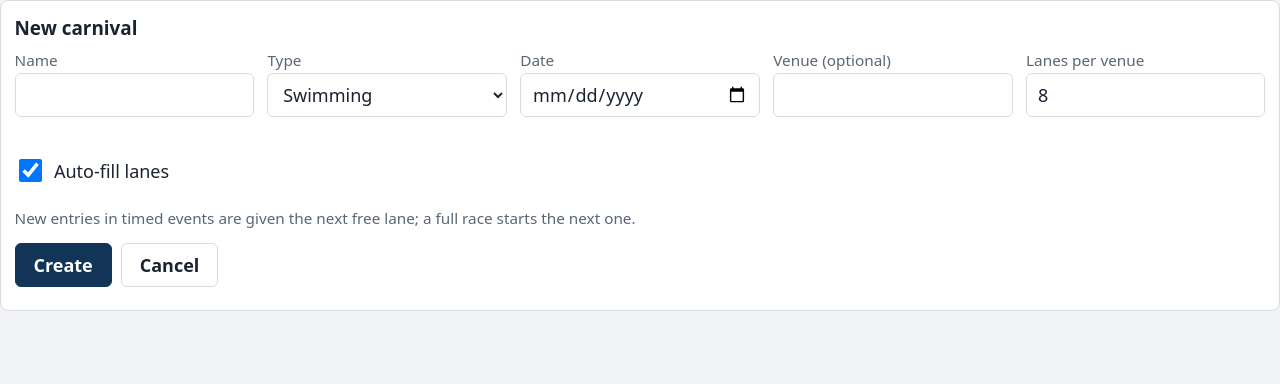
Scenario: NewCarnivalForm › warns rather than creates when the ticked box is left with no lane count
Type "Preston Swimming" into the field labelled "Name". click: (134, 95)
box: [14, 73, 254, 117]
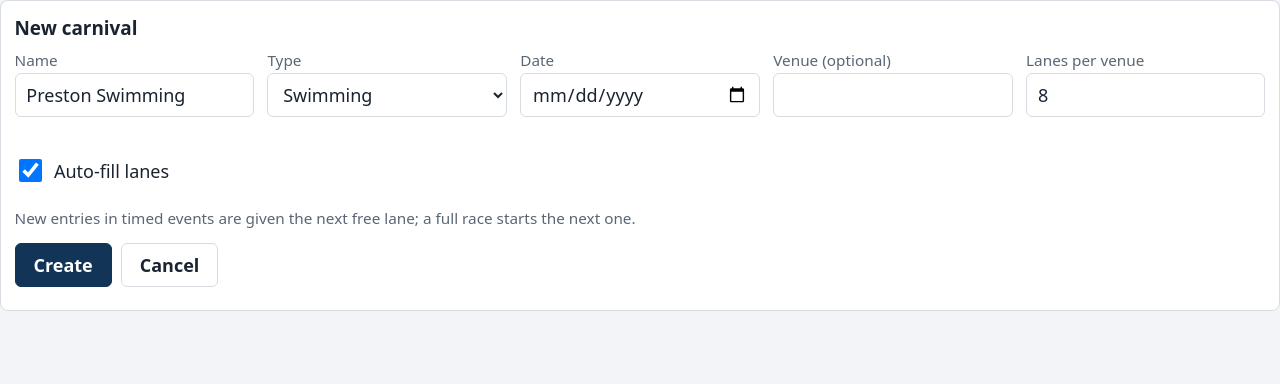
Type "2027-03-06" into the date field labelled "Date". click: (640, 95)
box: [520, 73, 760, 117]
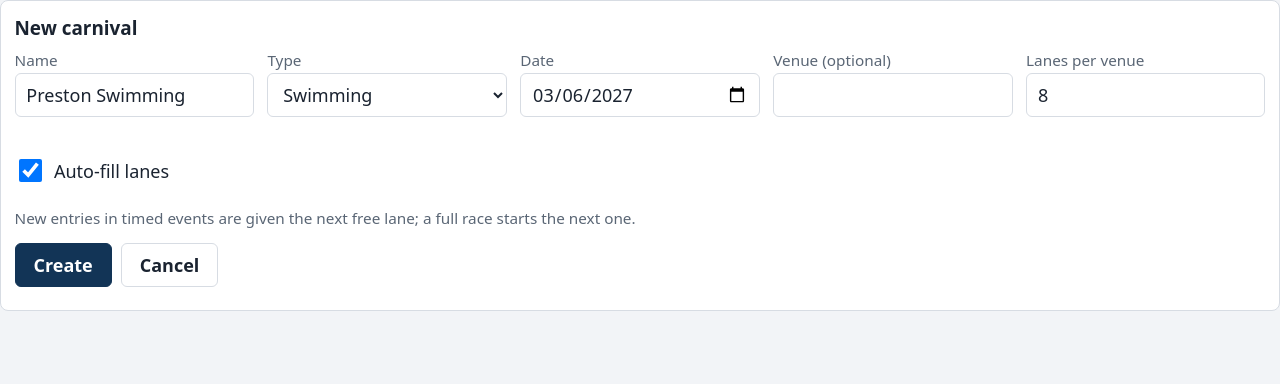
Clear the number field labelled "Lanes per venue". click: (1146, 95)
box: [1026, 73, 1266, 117]
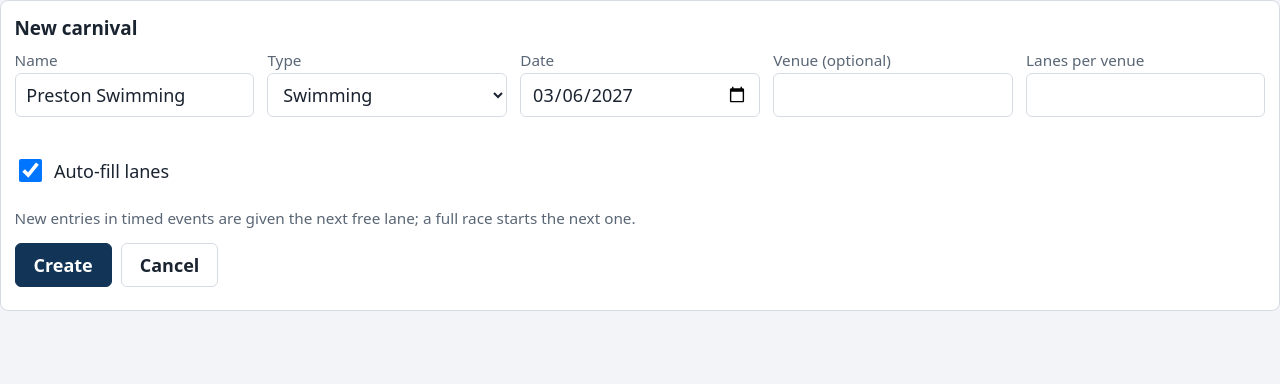
Click the button "Create". click: (63, 265)
box: [14, 243, 112, 287]
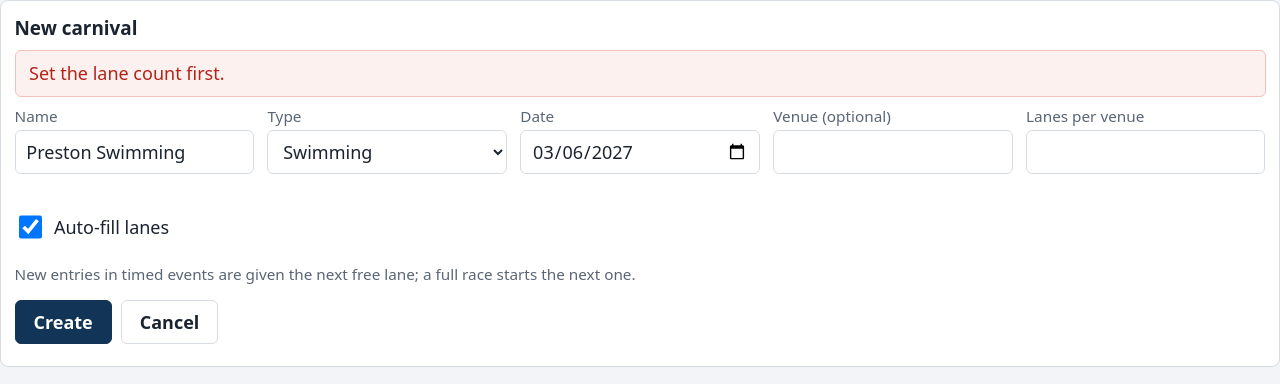
Expected: the message reads "Set the lane count first.", [29, 61, 224, 85]
